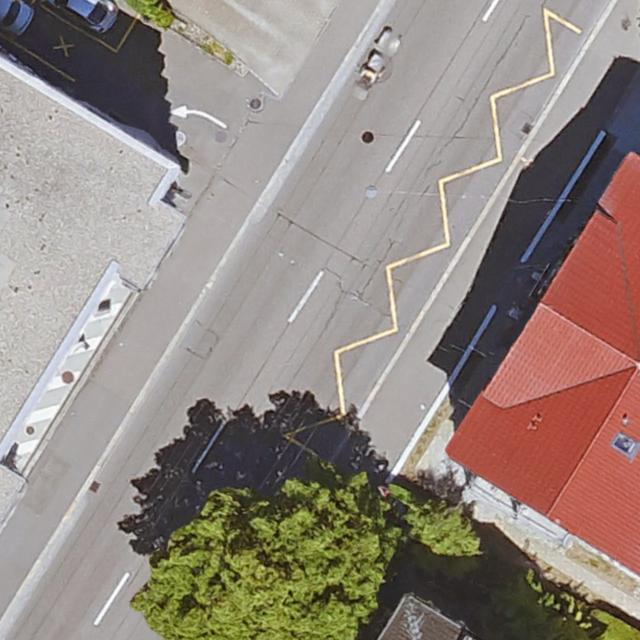tree: (143, 487, 393, 640), (410, 500, 483, 569)
